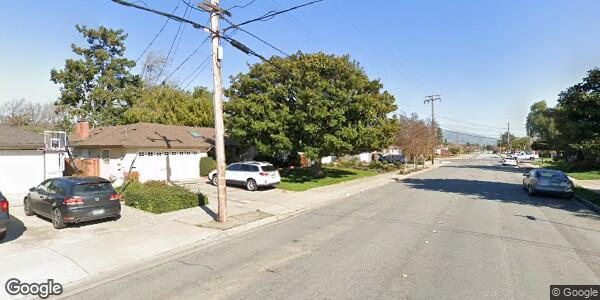Wood_Pole: (190, 2, 252, 228), (422, 93, 444, 164)
